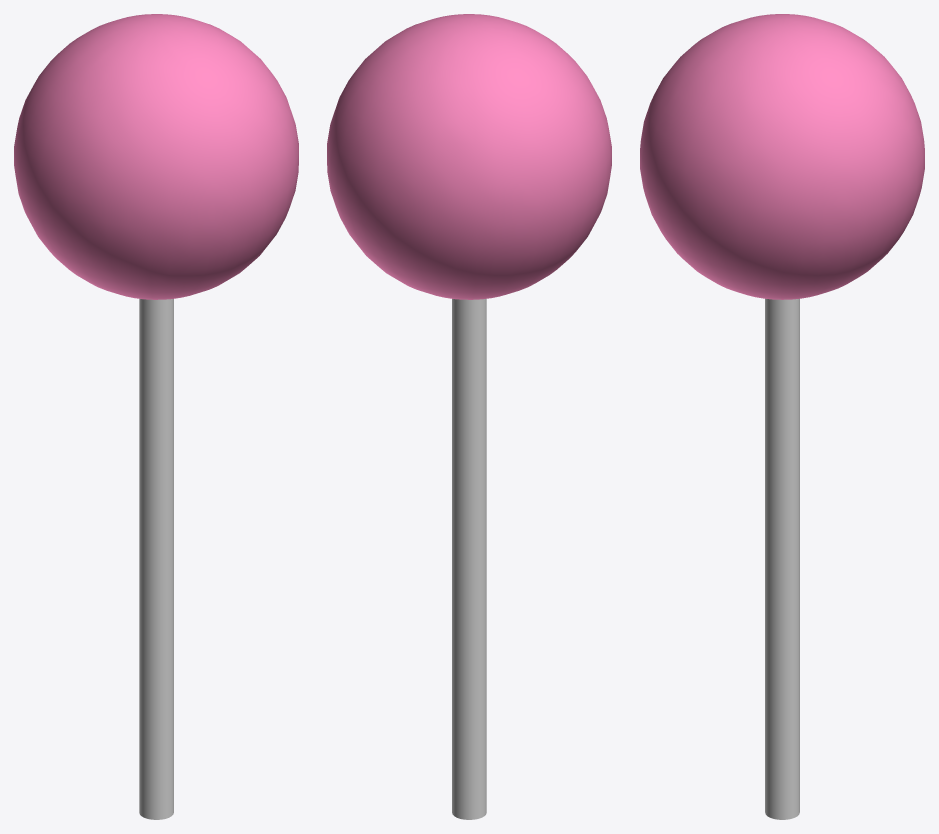
3 renders of one model, left to right at view 1: azimuth 30°, elevation 25°; view 2: azimuth 150°, elevation 25°; view 3: azimuth 270°, elevation 25°, orthographic.
Parts seen in each view (by area): view 1: candy, stick; view 2: candy, stick; view 3: candy, stick.
Boxes of the visible parts, x1,y1,x2,y2 form: candy: [14, 14, 298, 299]; stick: [139, 299, 173, 819]; candy: [327, 14, 611, 299]; stick: [452, 299, 486, 819]; candy: [640, 14, 924, 299]; stick: [765, 298, 799, 819].
Bounding box in the file's own units: 0.0329 × 0.1 × 0.0329.
